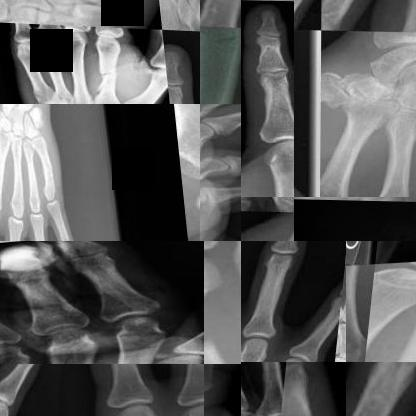fracture: (0, 243, 53, 279), (200, 23, 240, 64), (85, 57, 116, 96), (321, 74, 344, 113), (204, 322, 219, 363), (36, 150, 55, 182)
